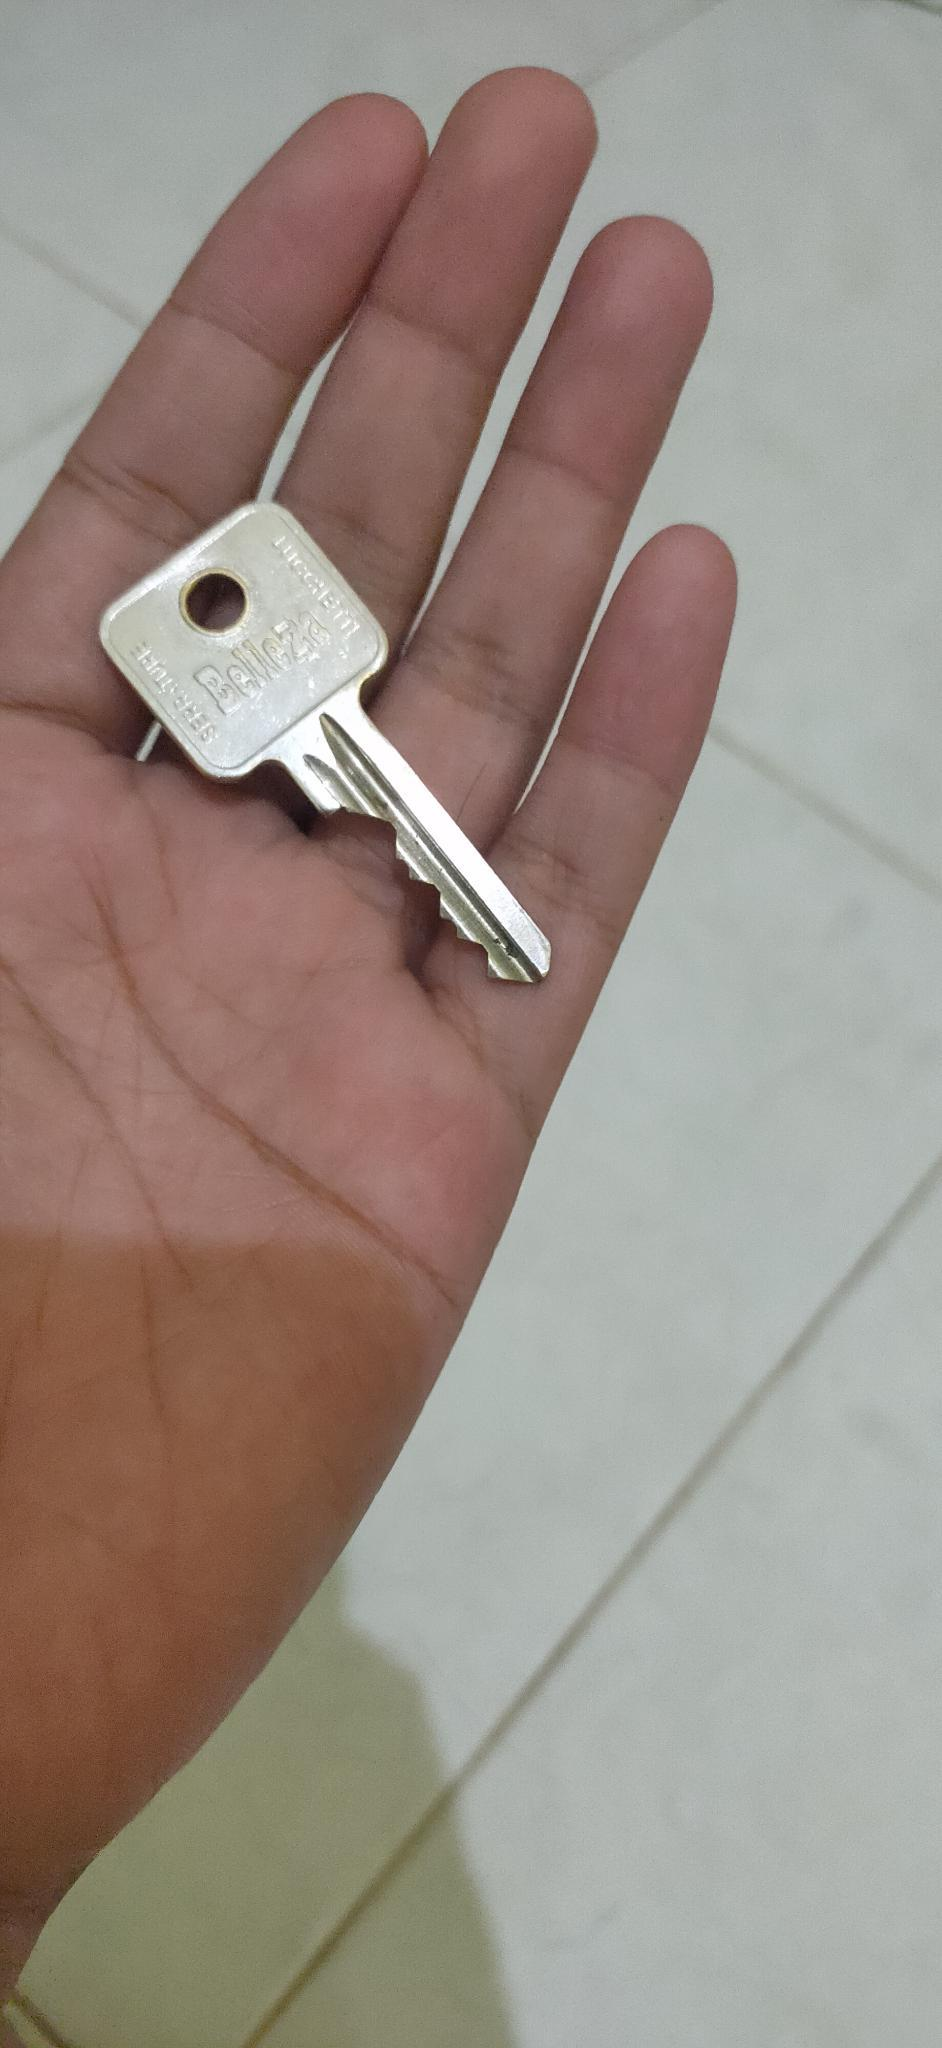keys: (99, 482, 570, 998)
